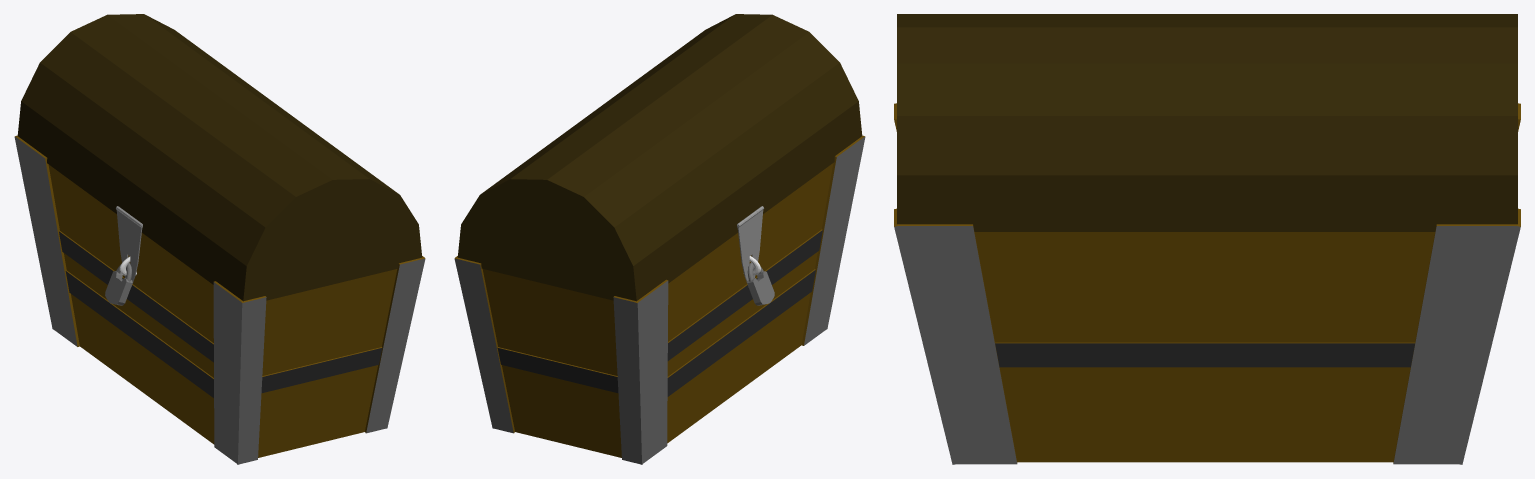
File: chest.fbx
3 renders of one model, left to right at view 1: azimuth 30°, elevation 25°; view 2: azimuth 150°, elevation 25°; view 3: azimuth 270°, elevation 25°, orthographic. The views are drawn at different scales.
Parts seen in each view (by area): view 1: Cylinder, Cube, Cylinder.001, Plane; view 2: Cylinder, Cube, Cylinder.001, Plane; view 3: Cylinder, Cube.
Boxes of the visible parts, x1,y1,x2,y2 form: Cylinder: [17, 14, 422, 301]; Cube: [14, 135, 425, 464]; Cylinder.001: [116, 206, 142, 286]; Plane: [105, 263, 132, 305]; Cylinder: [457, 14, 862, 301]; Cube: [454, 135, 865, 464]; Cylinder.001: [737, 206, 763, 282]; Plane: [747, 262, 774, 305]; Cylinder: [897, 14, 1517, 231]; Cube: [894, 103, 1520, 464].
Bounding box in the file's own units: 178 × 238 × 349.
